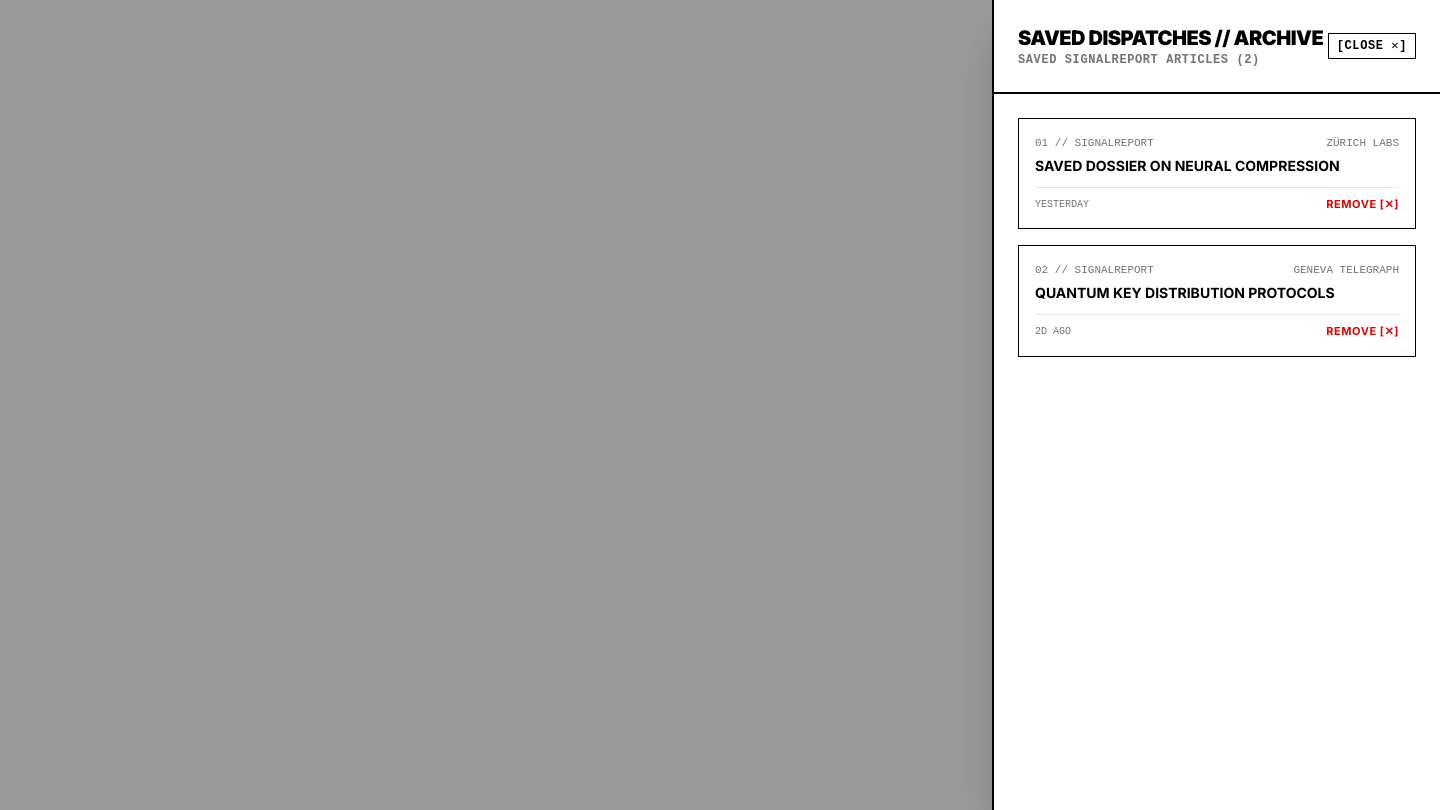
Scenario: TICKET 6.1: Saved Articles (Bookmarks) Drawer (BookmarksDrawer) › optimistically removes bookmark when remove button is clicked
Step 1. Click the button "REMOVE [✕]" in the row of "YESTERDAY" → coordinates (1363, 204), box [1326, 196, 1399, 212]
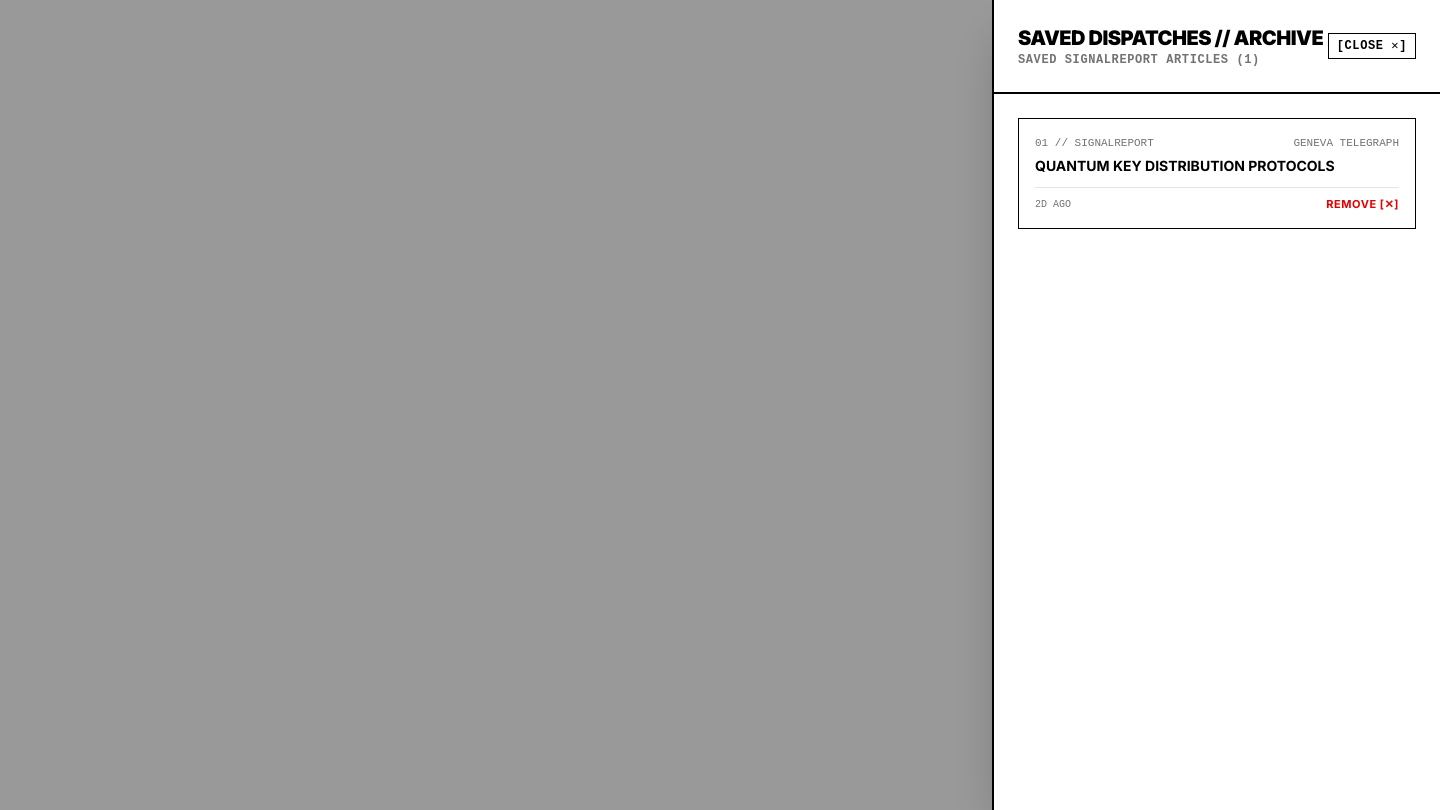
Now the link "SAVED DOSSIER ON NEURAL COMPRESSION" is gone
